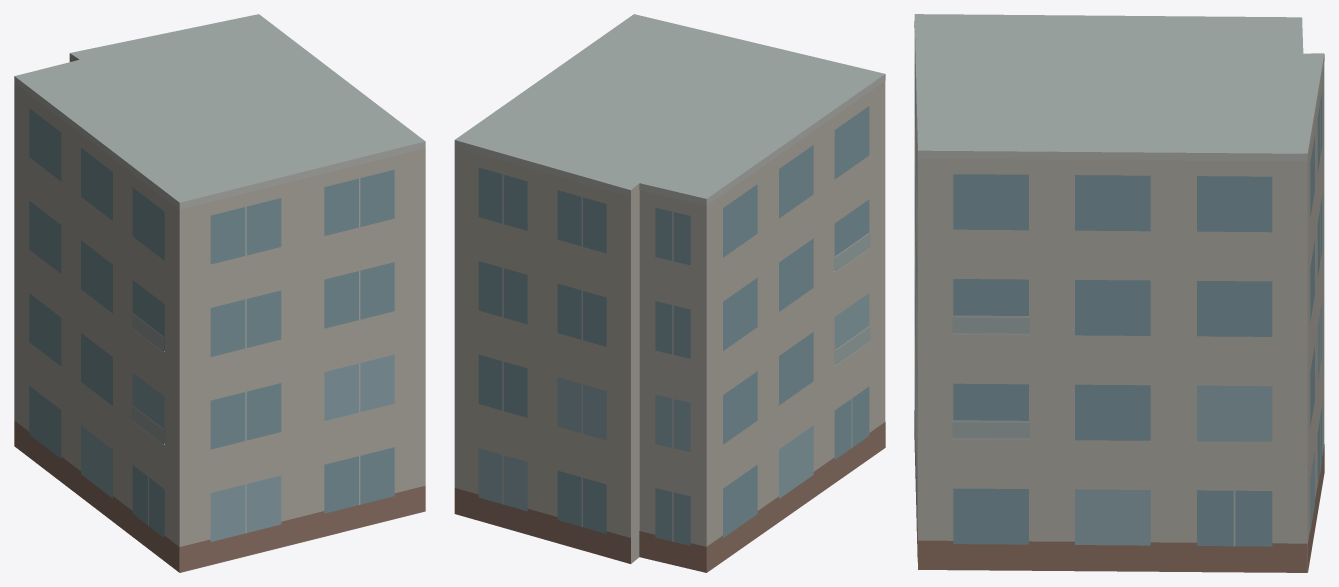
The model's file is survey-upis-32744901.glb.
The picture shows the model from 3 angles, left to right: view 1: azimuth 30°, elevation 25°; view 2: azimuth 150°, elevation 25°; view 3: azimuth 270°, elevation 25°; orthographic projection. The views are drawn at different scales.
Visible parts, largest first — view 1: survey-upis-32744901.tmp; view 2: survey-upis-32744901.tmp; view 3: survey-upis-32744901.tmp.
Boxes of the visible parts, x1,y1,x2,y2 form: survey-upis-32744901.tmp: (14, 14, 425, 572); survey-upis-32744901.tmp: (454, 14, 885, 572); survey-upis-32744901.tmp: (914, 14, 1324, 572).
Size of the model in its own units: 9.46 by 13.2 by 11.71.
